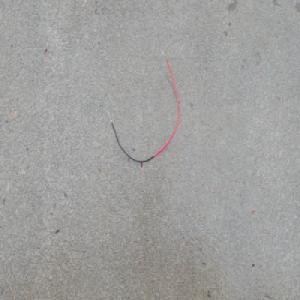Wire: (105, 48, 181, 166)
